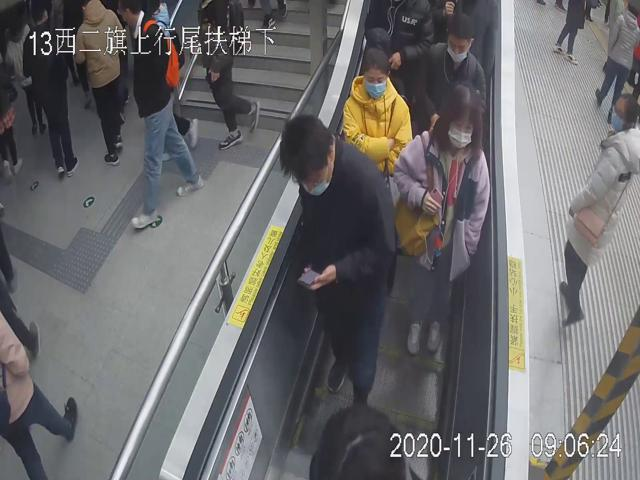person: (277, 113, 397, 412), (392, 79, 492, 358), (116, 0, 207, 231), (556, 93, 640, 327), (406, 10, 487, 137), (340, 47, 413, 178)
